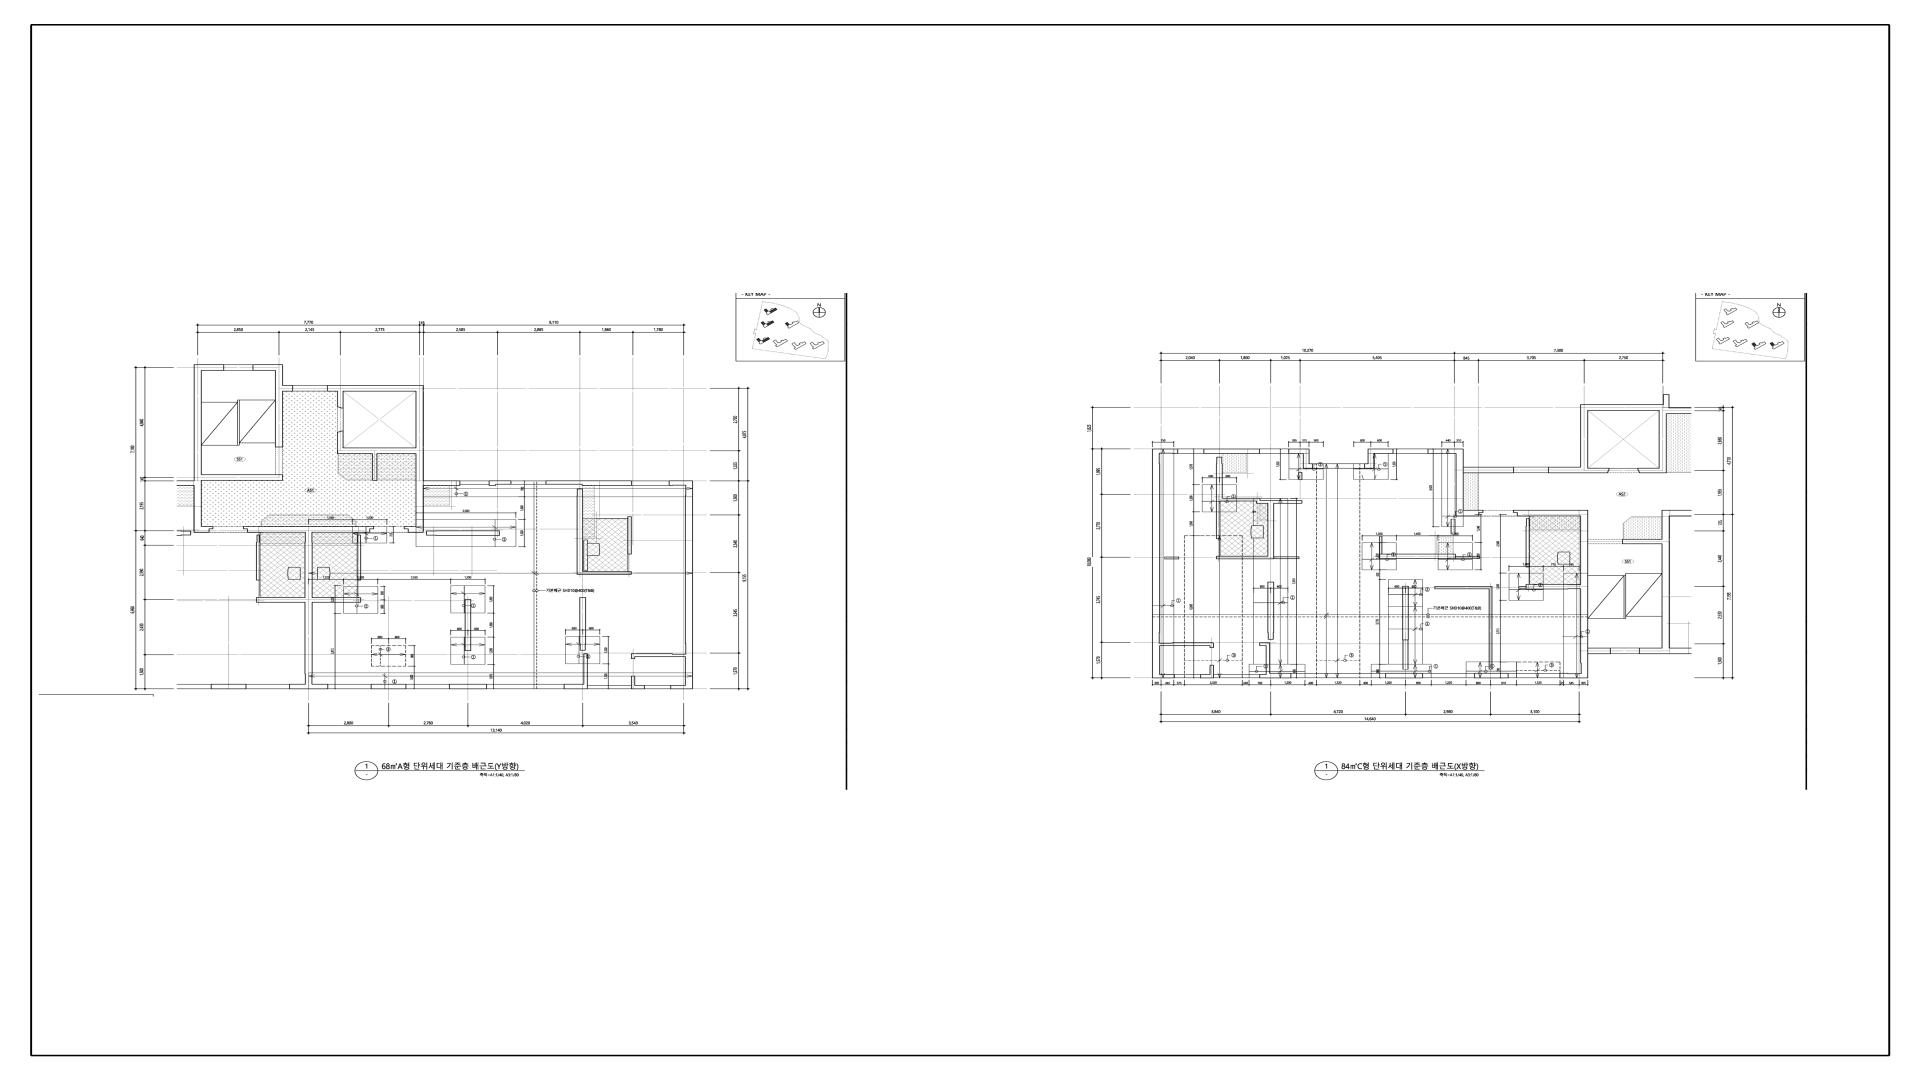wall: (1153, 454, 1160, 674), (686, 485, 694, 686), (194, 371, 202, 526), (305, 533, 313, 684), (415, 385, 423, 526), (1662, 510, 1669, 647), (1581, 517, 1588, 674), (243, 526, 375, 533), (1580, 405, 1669, 414), (276, 371, 284, 447), (327, 385, 415, 392), (202, 475, 284, 481), (576, 489, 583, 571), (1514, 510, 1589, 517), (546, 480, 632, 485), (1456, 454, 1464, 510), (1580, 411, 1588, 467), (1659, 414, 1667, 468), (1548, 467, 1610, 473), (1379, 554, 1456, 559), (426, 530, 500, 535), (1267, 582, 1274, 640), (344, 448, 415, 454), (580, 597, 587, 650), (464, 599, 471, 651), (1267, 504, 1274, 556), (1464, 467, 1514, 473), (1489, 589, 1493, 670), (1204, 448, 1261, 454), (1403, 585, 1408, 641), (1526, 584, 1581, 589), (1216, 456, 1222, 498), (313, 597, 361, 603), (1216, 498, 1261, 504), (1435, 585, 1493, 589), (576, 571, 632, 575), (1622, 539, 1662, 545), (1639, 647, 1671, 654), (194, 364, 224, 371), (253, 364, 284, 371), (1159, 642, 1209, 646), (450, 684, 487, 690), (1526, 518, 1530, 567), (371, 684, 406, 690), (1428, 448, 1464, 454), (1456, 510, 1484, 517), (357, 535, 361, 580), (1259, 673, 1291, 678), (1261, 500, 1303, 504), (1588, 647, 1611, 654), (1403, 641, 1408, 670), (1216, 556, 1274, 559), (1638, 468, 1667, 473), (1216, 501, 1220, 539), (338, 431, 344, 454), (423, 481, 460, 485), (372, 454, 377, 481), (628, 517, 632, 554), (1386, 674, 1423, 678), (1560, 673, 1588, 678), (1367, 448, 1394, 454), (1474, 674, 1509, 678), (669, 480, 694, 485), (636, 654, 686, 657), (1153, 448, 1178, 454), (194, 526, 214, 533), (404, 526, 423, 533), (305, 684, 328, 690), (564, 684, 588, 690), (584, 654, 588, 684), (489, 480, 512, 485), (338, 392, 344, 409), (1288, 448, 1309, 454), (1266, 646, 1270, 673), (670, 686, 694, 690), (1153, 674, 1175, 678), (1451, 520, 1456, 534), (1303, 454, 1309, 464), (1456, 556, 1480, 559), (284, 385, 293, 392), (1367, 454, 1374, 463), (1200, 674, 1215, 678), (632, 686, 645, 690), (1209, 665, 1215, 674), (1365, 463, 1374, 468), (1379, 535, 1382, 554), (1259, 642, 1270, 646), (1303, 464, 1313, 468), (1164, 556, 1179, 559), (632, 676, 636, 686), (1209, 642, 1215, 647), (632, 654, 636, 659), (1519, 587, 1526, 589)
